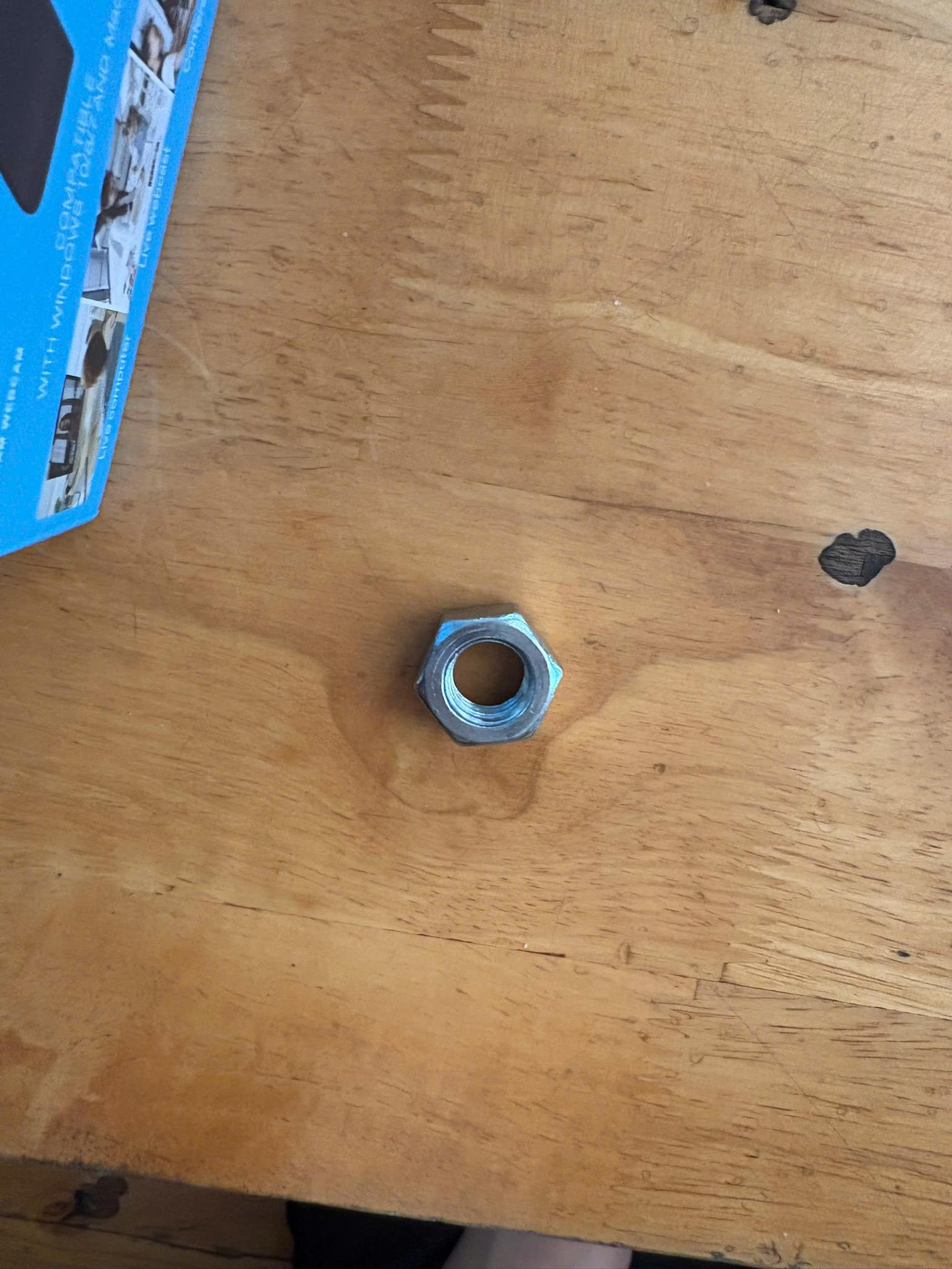nut: (394, 580, 577, 760)
